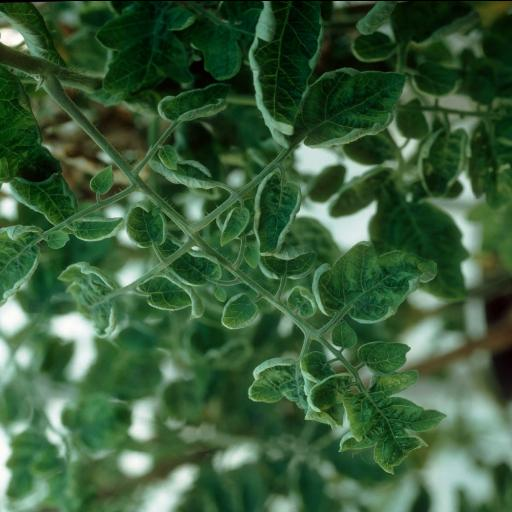disease_tomato: (332, 368, 450, 478), (246, 0, 325, 149), (312, 240, 442, 326), (297, 64, 409, 148), (0, 67, 65, 186), (246, 350, 338, 428), (59, 260, 119, 340), (250, 166, 302, 256), (0, 222, 47, 311), (417, 123, 469, 201), (150, 234, 224, 288), (7, 173, 83, 223), (156, 78, 232, 124), (134, 270, 206, 318), (146, 155, 220, 191), (252, 242, 322, 280), (122, 200, 168, 248), (218, 290, 264, 330), (70, 212, 124, 242)
